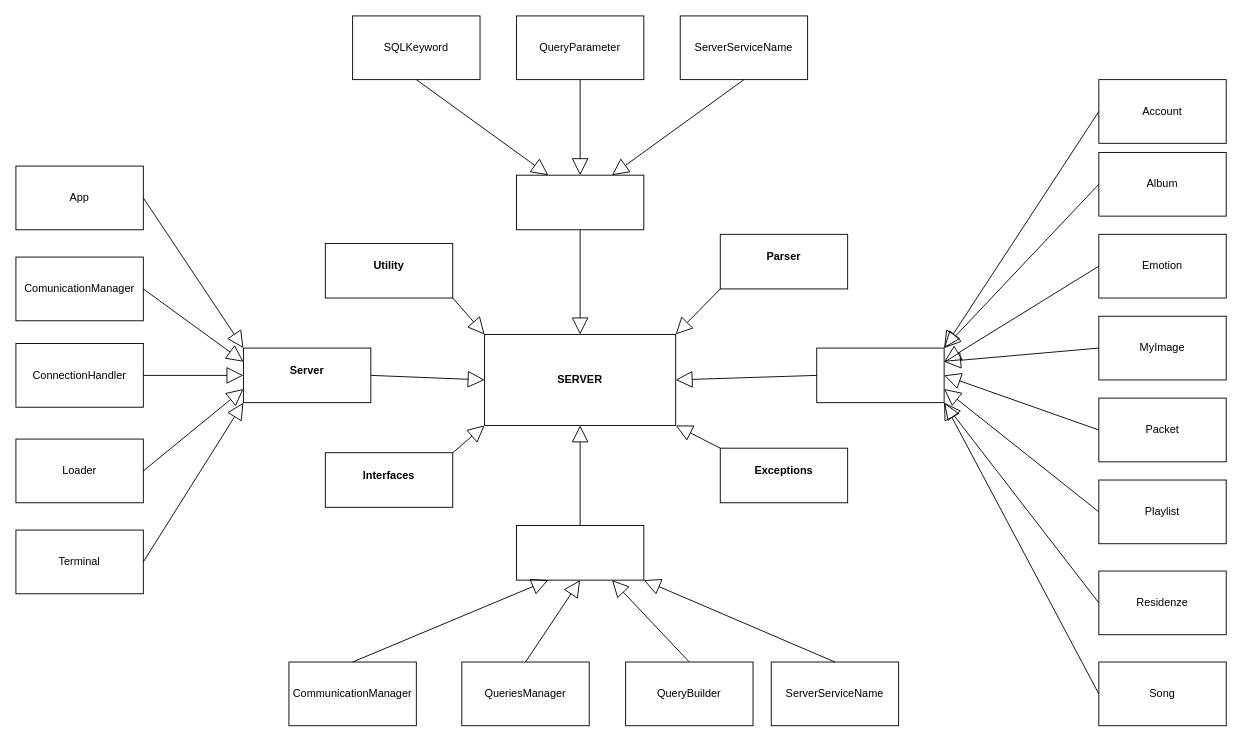
Image size: 1242x742. Some labels were removed from this diagram. The box of each missing label's shape, as (x1, y1, x2, y2) in pixels:
Database: (516, 525, 644, 580)
EnumClass: (516, 174, 644, 230)
Objects: (816, 347, 944, 403)
